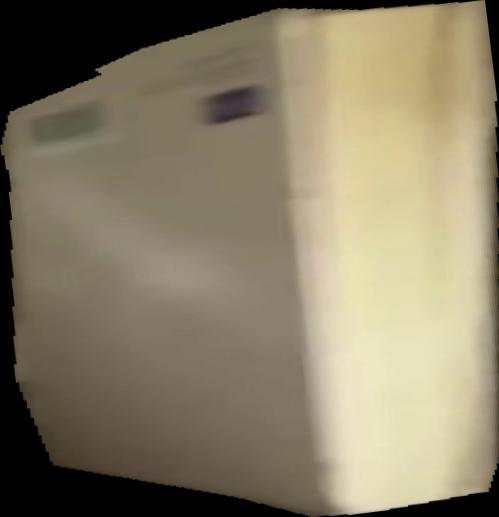backward: (1, 1, 499, 517)
